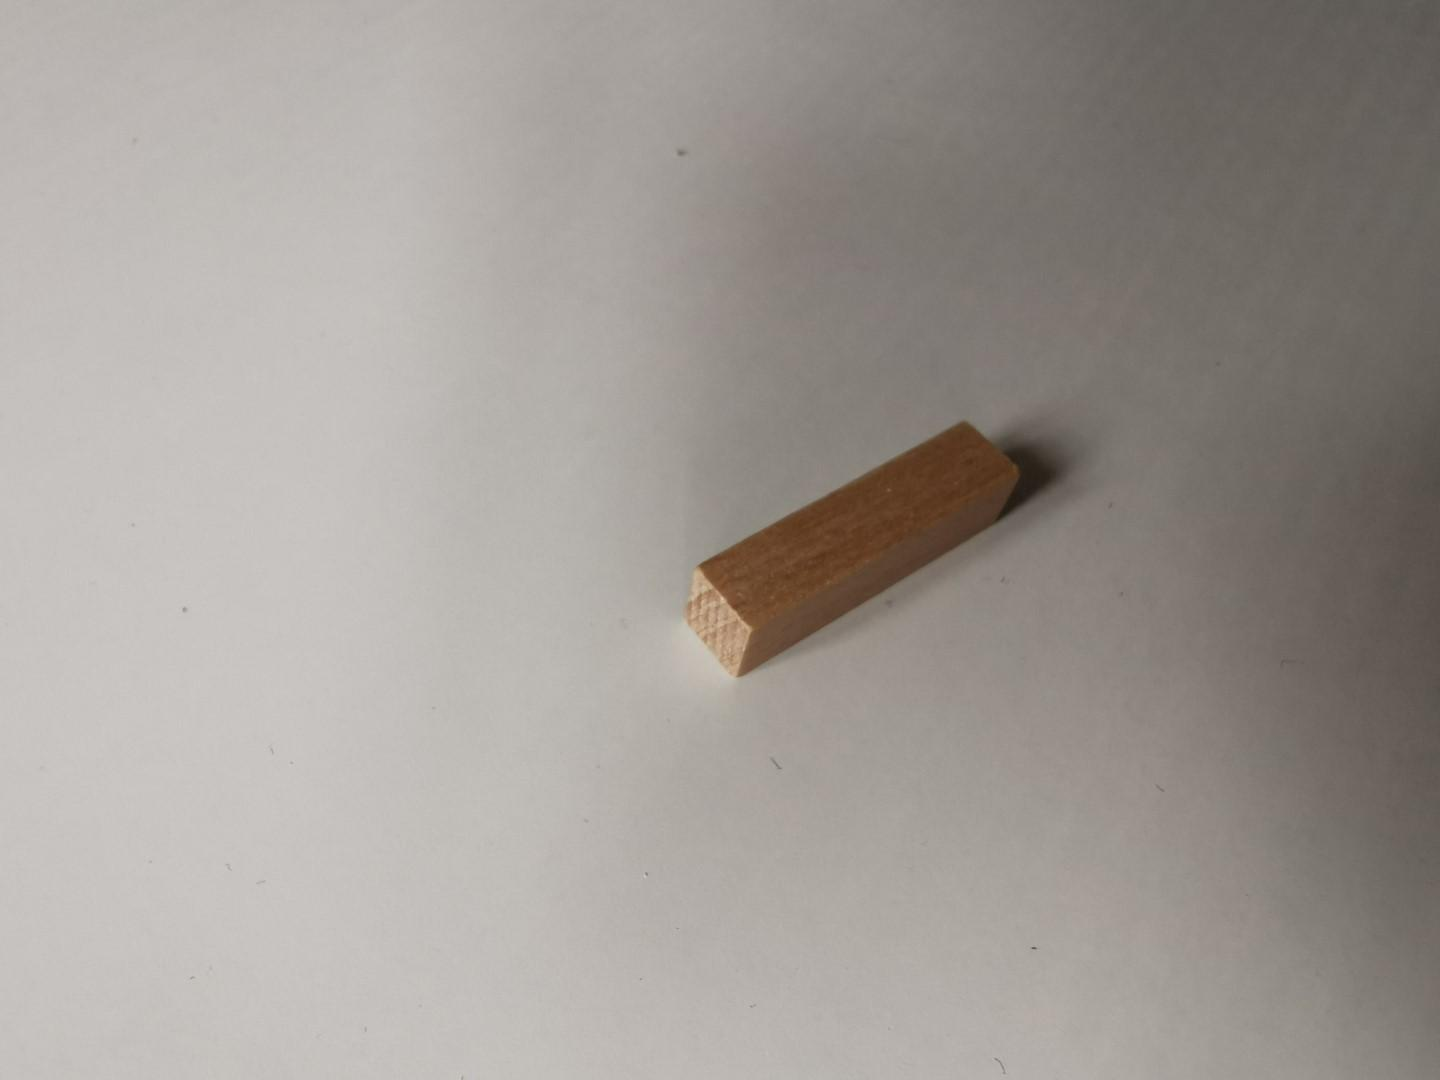jenga: (687, 422, 1020, 676)
